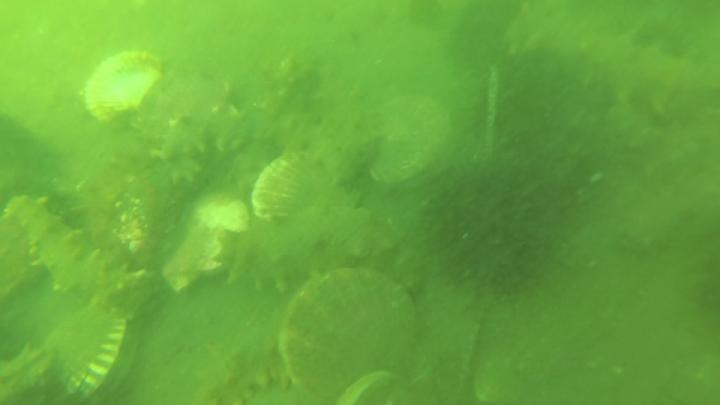echinus: (425, 151, 569, 295)
holothurian: (509, 4, 720, 119), (218, 194, 415, 299), (7, 193, 126, 296), (211, 101, 378, 174), (188, 309, 291, 405), (154, 107, 220, 188)
scallop: (281, 269, 425, 400), (367, 87, 456, 194), (54, 302, 135, 405), (79, 48, 168, 129), (158, 208, 234, 297), (248, 153, 322, 222)
